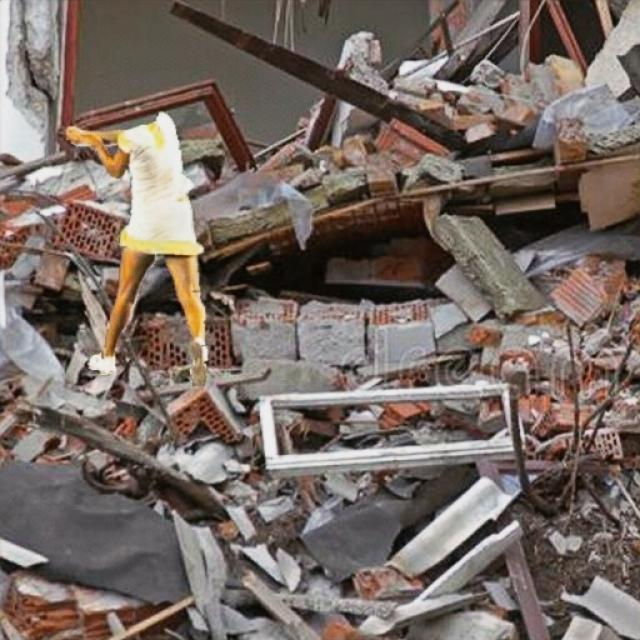Person in Rubble: (66, 111, 206, 385)
